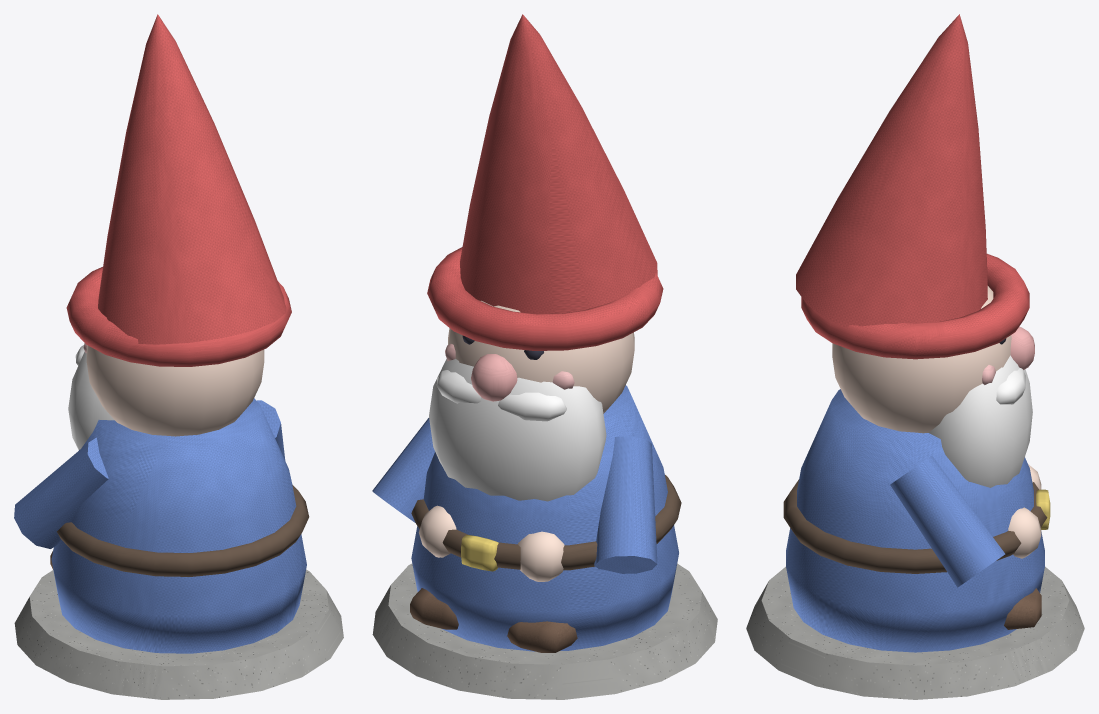
Rendered from gnome.glb.
3 views of the same model, side by side, from view 1: azimuth 30°, elevation 25°; view 2: azimuth 150°, elevation 25°; view 3: azimuth 270°, elevation 25° (orthographic). The views are drawn at different scales.
Parts seen in each view (by area): view 1: gnome_body; view 2: gnome_body; view 3: gnome_body.
Boxes of the visible parts, box(x1,y1,x2,y2) form: gnome_body: box(14, 14, 343, 699); gnome_body: box(372, 14, 717, 699); gnome_body: box(746, 14, 1084, 699).
Size of the model in its own units: 0.44 by 0.8808 by 0.44.
Materials: 11 (8 with a texture image).
